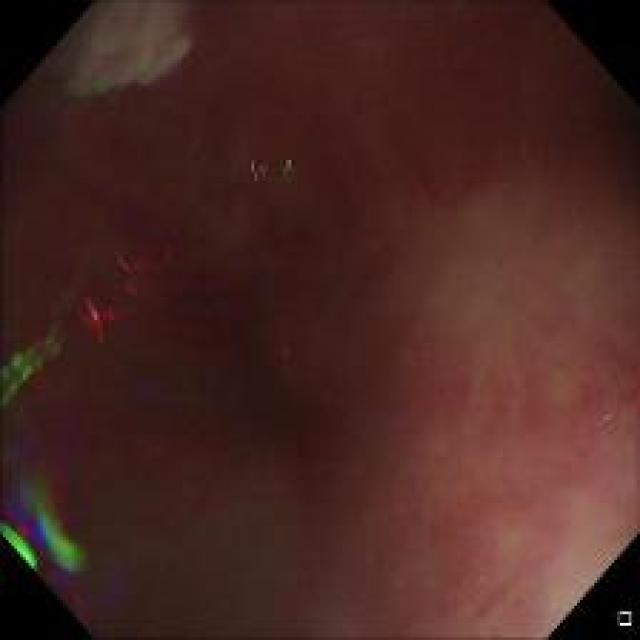bubbles: (599, 411, 618, 428), (469, 568, 485, 588)
color misalignment: (2, 451, 105, 636), (4, 316, 66, 411), (112, 238, 174, 310), (65, 295, 125, 342), (112, 374, 155, 406), (236, 154, 271, 184), (279, 155, 298, 182)
contrast: (1, 0, 430, 638)
